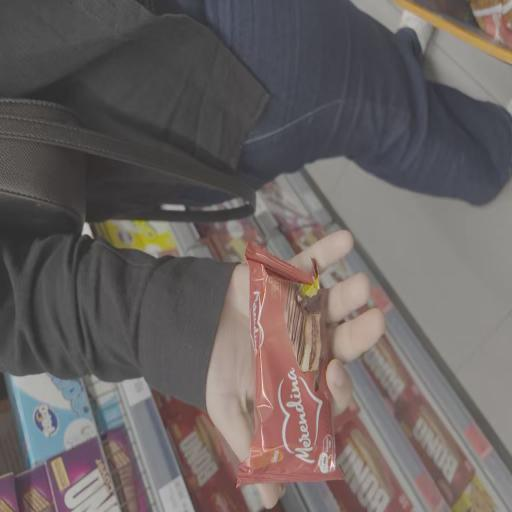merendina: (240, 241, 350, 496)
